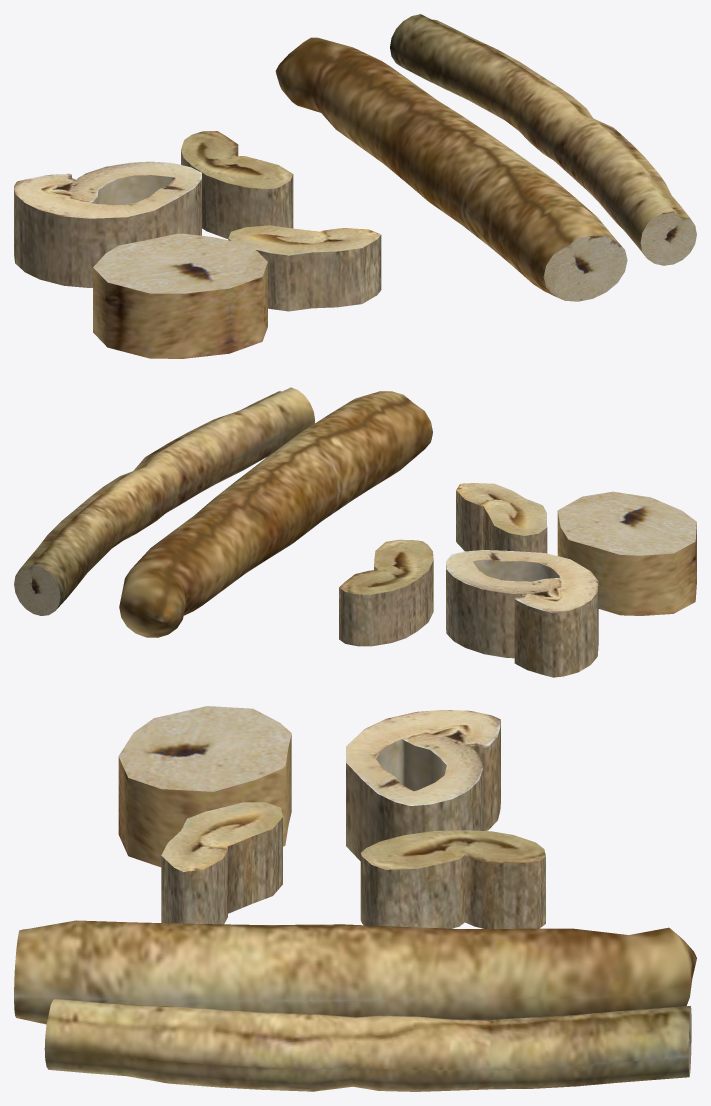
Rendered from baixianpi.FBX.
The picture shows the model from 3 angles, top to bottom: view 1: azimuth 30°, elevation 25°; view 2: azimuth 150°, elevation 25°; view 3: azimuth 270°, elevation 25°; orthographic projection. The views are drawn at different scales.
Visible parts, largest first — view 1: Cylinder001, Cylinder002, Line005, Line002, Line004, Line003; view 2: Cylinder001, Cylinder002, Line002, Line005, Line003, Line004; view 3: Cylinder001, Cylinder002, Line005, Line002, Line003, Line004.
Boxes of the visible parts, x1,y1,x2,y2 form: Cylinder001: (275, 37, 627, 301); Cylinder002: (390, 14, 696, 265); Line005: (93, 233, 267, 358); Line002: (14, 161, 201, 287); Line004: (228, 225, 381, 311); Line003: (181, 131, 293, 238); Cylinder001: (119, 391, 432, 637); Cylinder002: (14, 387, 314, 615); Line002: (446, 550, 598, 677); Line005: (557, 491, 696, 615); Line003: (339, 539, 433, 646); Line004: (456, 483, 547, 553); Cylinder001: (14, 920, 696, 1024); Cylinder002: (44, 999, 691, 1091); Line005: (118, 706, 291, 867); Line002: (346, 710, 500, 860); Line003: (360, 830, 545, 928); Line004: (161, 802, 282, 924).
Size of the model in its own units: 413 by 58.67 by 363.
1 material, 1 textured.
